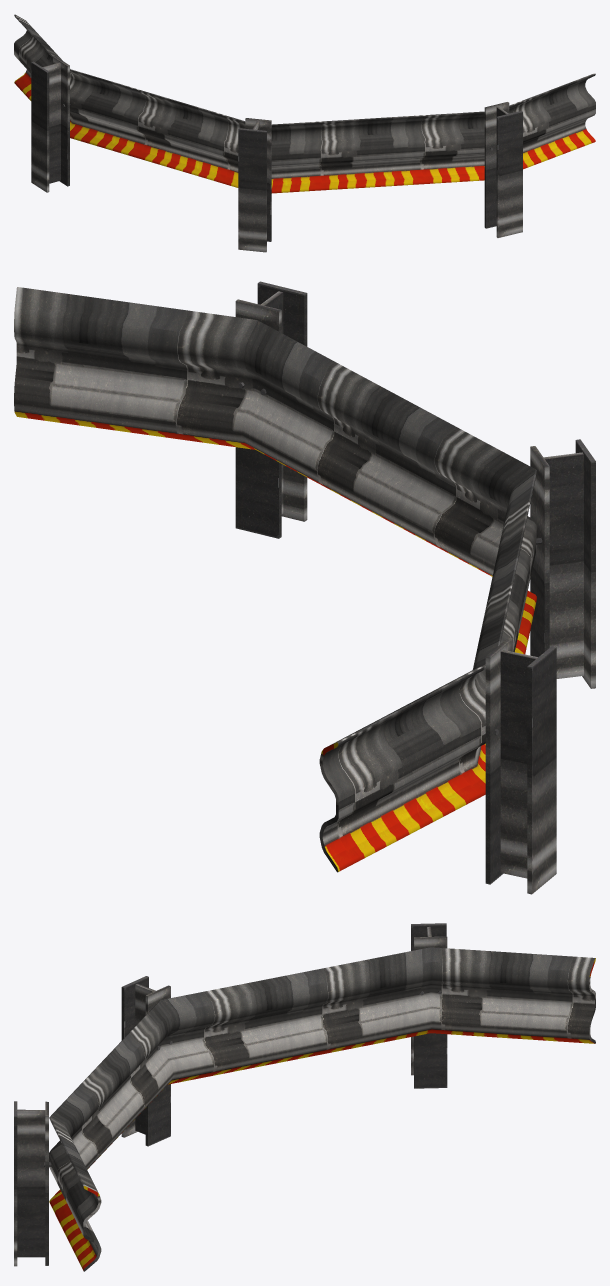
Rendered from Rail 22.FBX.
3 views of the same model, one above another, from view 1: azimuth 30°, elevation 25°; view 2: azimuth 150°, elevation 25°; view 3: azimuth 270°, elevation 25° (orthographic). The views are drawn at different scales.
Parts seen in each view (by area): view 1: guardrail_small_135deg_in; view 2: guardrail_small_135deg_in; view 3: guardrail_small_135deg_in.
Boxes of the visible parts, <box> form: guardrail_small_135deg_in: <box>14,14,595,252</box>; guardrail_small_135deg_in: <box>14,281,595,894</box>; guardrail_small_135deg_in: <box>14,923,595,1271</box>.
Size of the model in its own units: 367 by 101 by 354.
